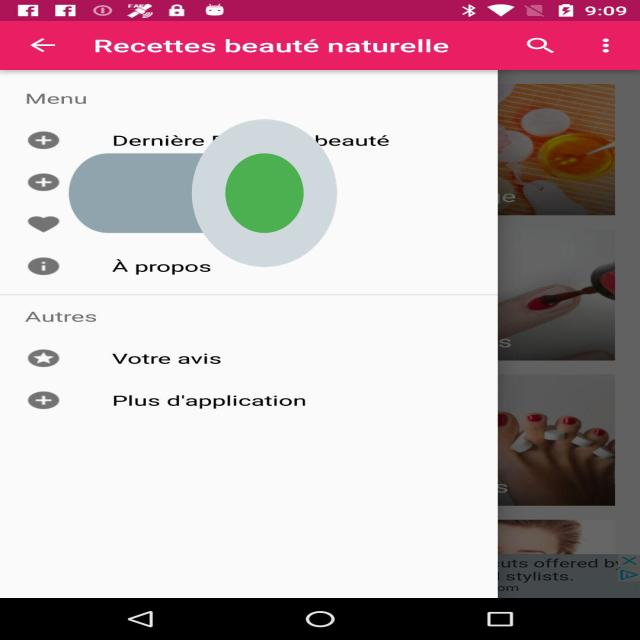social proof: (69, 56, 337, 330)
